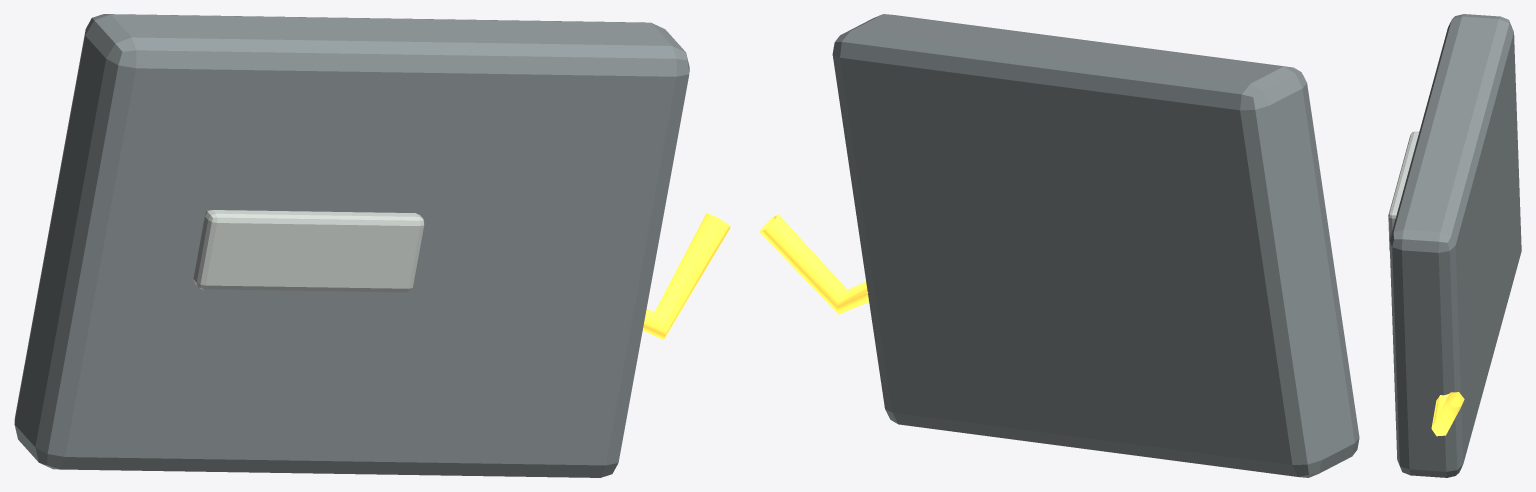
Rendered from Find_SatelliteFragment.glb.
3 renders of one model, left to right at view 1: azimuth 30°, elevation 25°; view 2: azimuth 150°, elevation 25°; view 3: azimuth 270°, elevation 25°, orthographic. The views are drawn at different scales.
Visible parts, largest first — view 1: Find_SatelliteFragment, Find_SatelliteFragment_FadedMark, Find_SatelliteFragment_Wire; view 2: Find_SatelliteFragment, Find_SatelliteFragment_Wire; view 3: Find_SatelliteFragment, Find_SatelliteFragment_Wire, Find_SatelliteFragment_FadedMark.
Boxes of the visible parts, x1,y1,x2,y2 form: Find_SatelliteFragment: (14,14,689,477); Find_SatelliteFragment_FadedMark: (193,210,424,292); Find_SatelliteFragment_Wire: (642,213,730,339); Find_SatelliteFragment: (832,14,1359,477); Find_SatelliteFragment_Wire: (759,214,868,314); Find_SatelliteFragment: (1389,14,1521,477); Find_SatelliteFragment_Wire: (1431,392,1464,436); Find_SatelliteFragment_FadedMark: (1388,131,1419,251).
Bounding box in the file's own units: 1.33 × 0.9661 × 0.3584.
